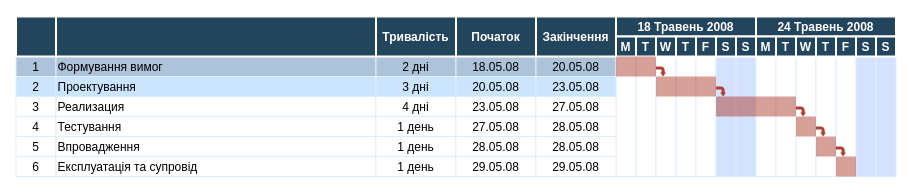
Image size: 912x193. Some labels were removed from this diagram. The box of each missing label's shape, as (x1, y1, x2, y2) in pixels:
Код: (14, 15, 56, 57)
Назва задачі: (54, 15, 376, 57)
